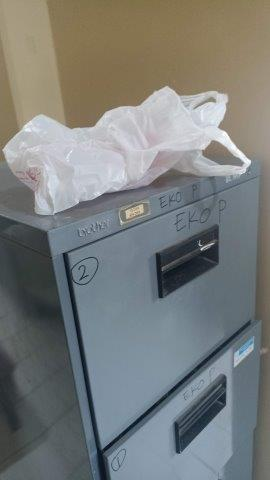plastik: (2, 90, 251, 215)
